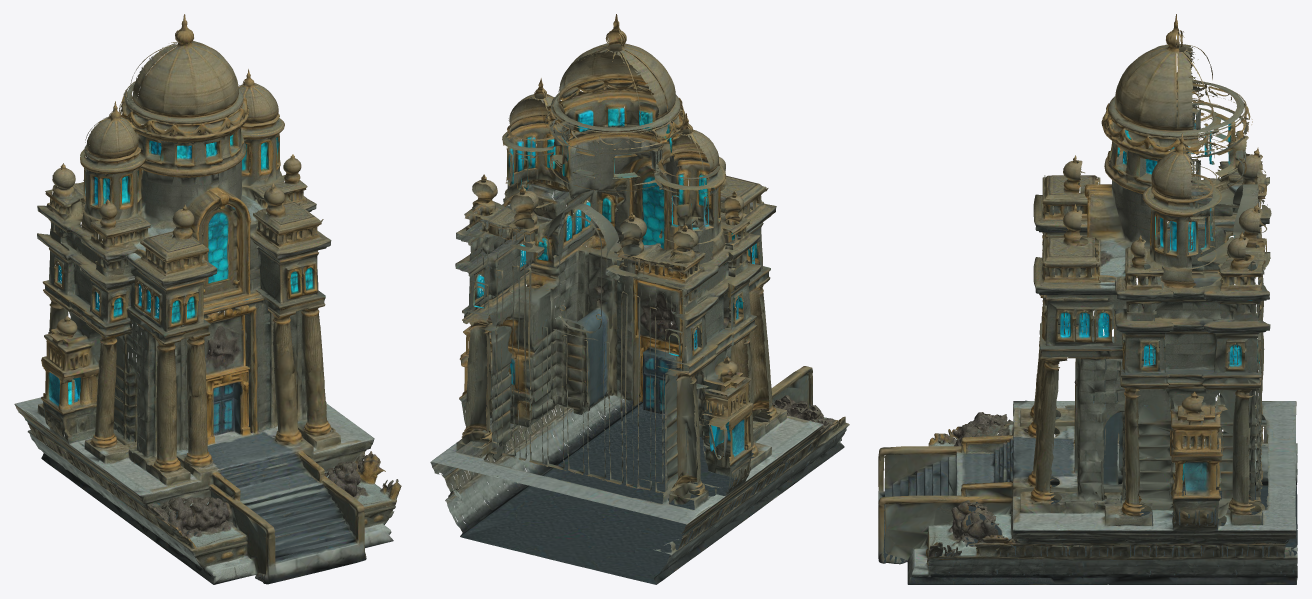
The model's file is atlantis_block.glb.
3 renders of one model, left to right at view 1: azimuth 30°, elevation 25°; view 2: azimuth 150°, elevation 25°; view 3: azimuth 270°, elevation 25°, orthographic. The views are drawn at different scales.
Size of the model in its own units: 1.07 by 1.9 by 1.39.
1 material, 1 textured.
